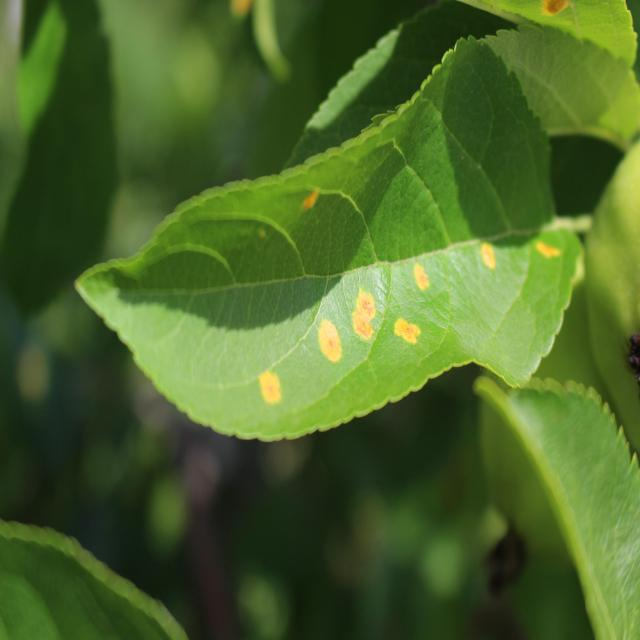Rust: (315, 282, 347, 384), (346, 272, 382, 360), (258, 339, 291, 418), (384, 310, 429, 366), (472, 226, 508, 295), (406, 254, 442, 304), (533, 223, 563, 279), (515, 0, 579, 24), (304, 169, 322, 233)
